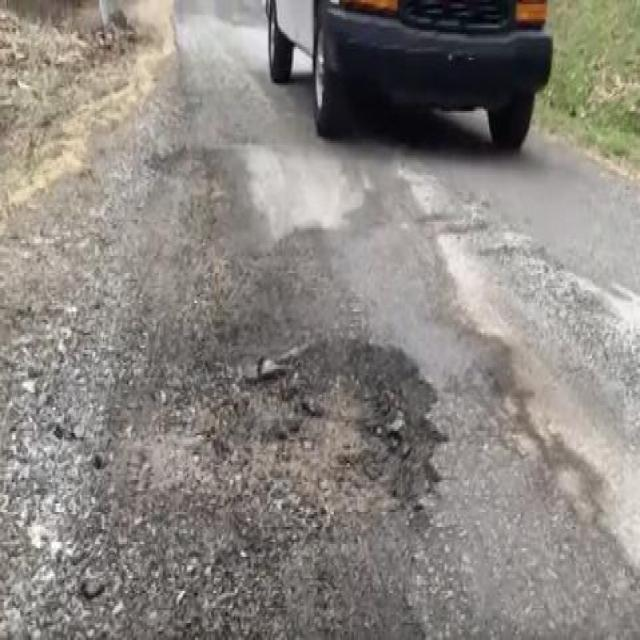pothole: (227, 332, 453, 534)
